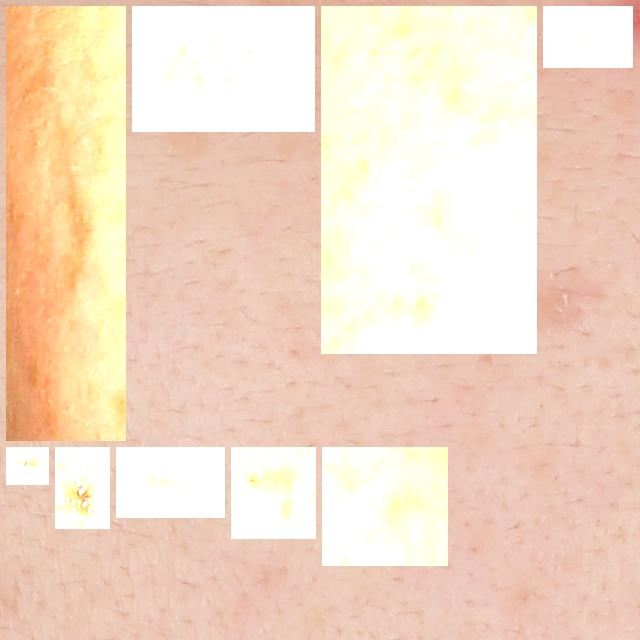melasma: (329, 14, 529, 346), (14, 14, 118, 433), (140, 14, 307, 124), (330, 455, 440, 558), (239, 455, 308, 531), (124, 455, 217, 510), (551, 14, 625, 60)
nevus: (63, 455, 102, 521), (14, 455, 41, 477)
